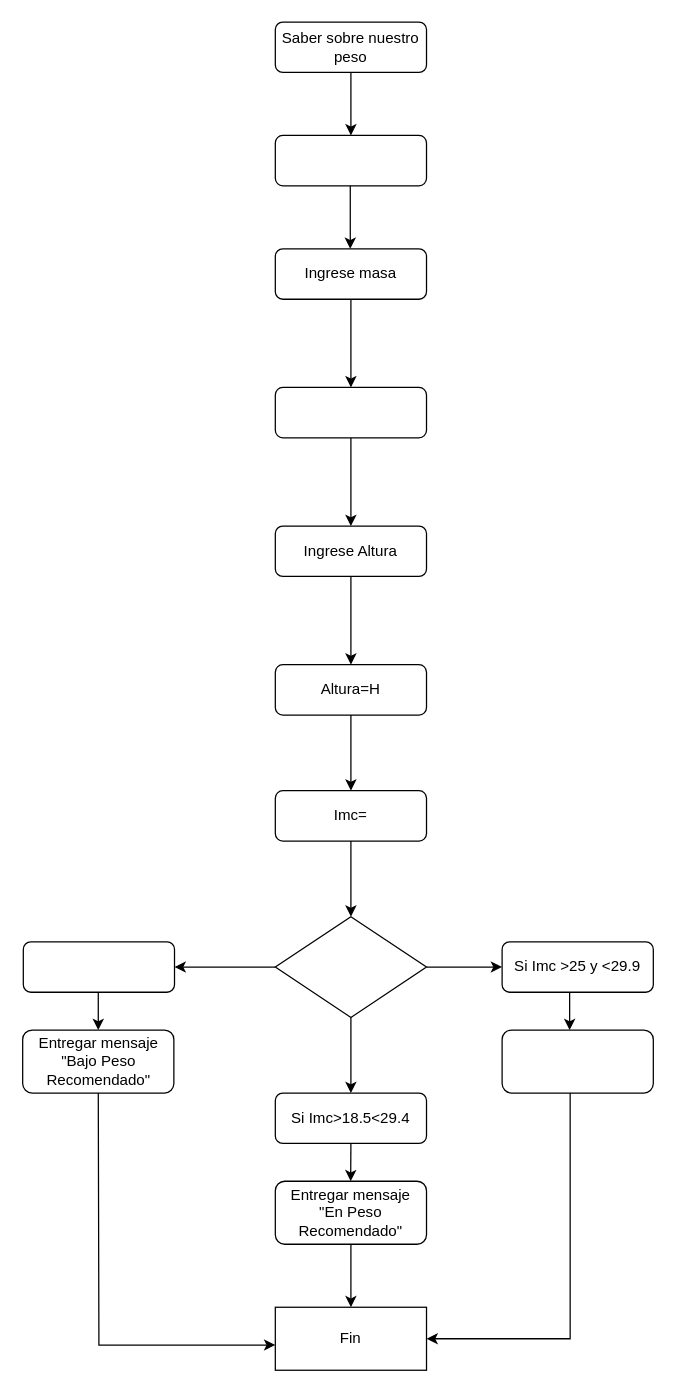
Image size: 675x1392. Some labels were removed from this diagram. The shapes that lost their labels are listed below. From the top down, each one's box as (x1, y1, x2, y2) in pixels, then its label:
(274, 134, 427, 186): Imc=M/H
(274, 386, 427, 438): masa=M
(22, 941, 175, 992): Si Imc =< 18.5
(274, 915, 427, 1017): Que tipo de peso tengo?
(501, 1029, 653, 1093): Entregar mensaje "Sobre Peso Recomendado"
